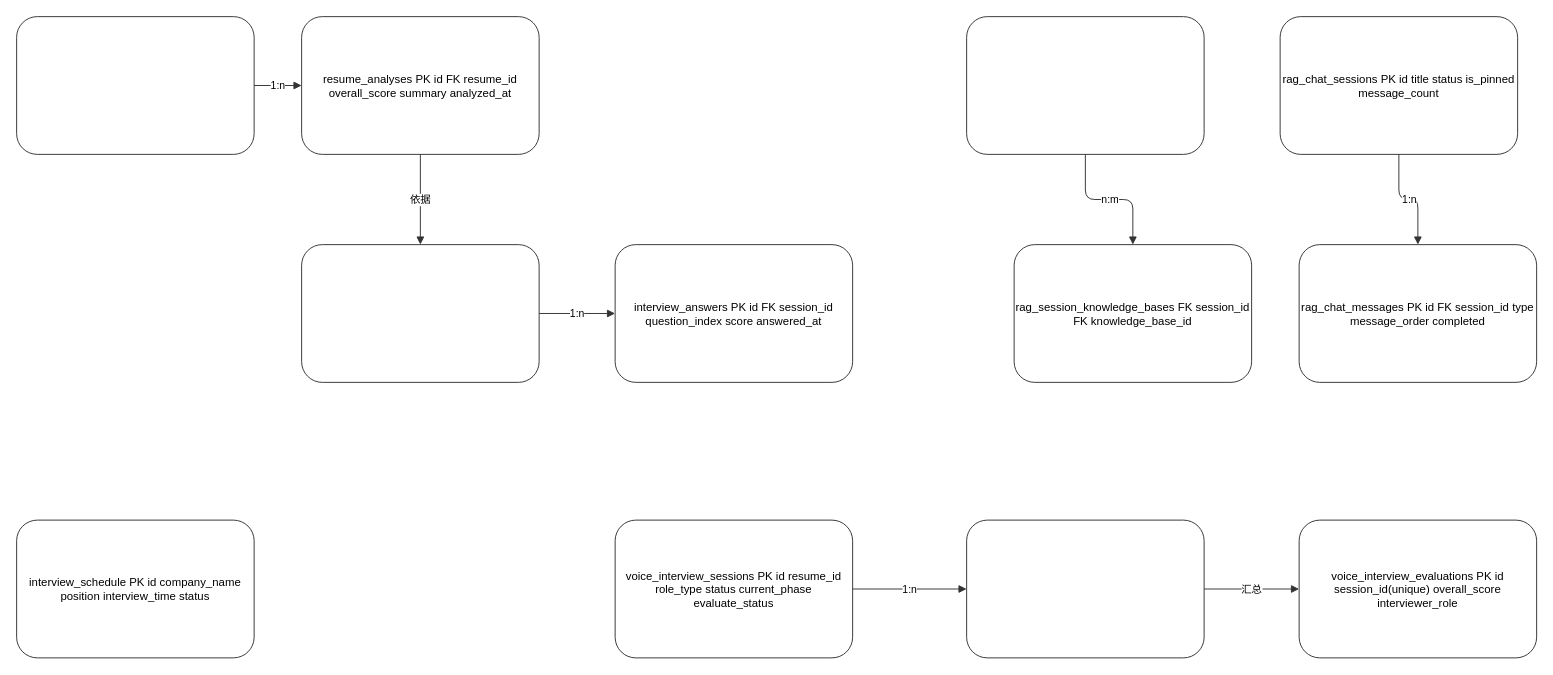
The diagram is 1553 pixels wide and 675 high, and some of its shapes have lost their labels. Each missing label, with the centre of its shape:
"interview_sessions PK id session_id FK resume_id skill_id status evaluate_status" belongs at (420,313).
"knowledge_bases PK id file_hash name category vector_status chunk_count" belongs at (1085,85).
"resumes PK id file_hash original_filename resume_text analyze_status" belongs at (135,85).
"voice_interview_messages PK id FK session_id message_type sequence_num" belongs at (1085,588).
